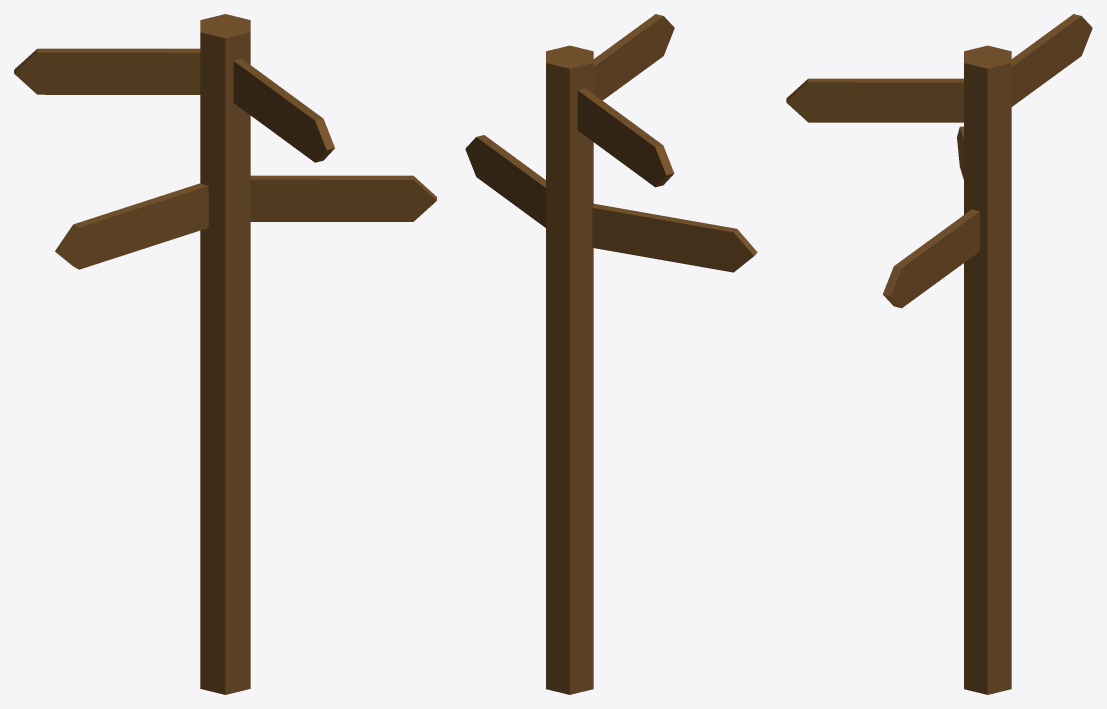
File: Signpost 1.fbx
3 renders of one model, left to right at view 1: azimuth 30°, elevation 25°; view 2: azimuth 150°, elevation 25°; view 3: azimuth 270°, elevation 25°, orthographic. The views are drawn at different scales.
Visible parts, largest first — view 1: Signpost_1; view 2: Signpost_1; view 3: Signpost_1.
Boxes of the visible parts, x1=… form: Signpost_1: x1=14, y1=14, x2=436, y2=694; Signpost_1: x1=465, y1=14, x2=757, y2=694; Signpost_1: x1=786, y1=14, x2=1092, y2=694.
Bounding box in the file's own units: 175 × 321 × 143.
Materials: 1 (1 with a texture image).
